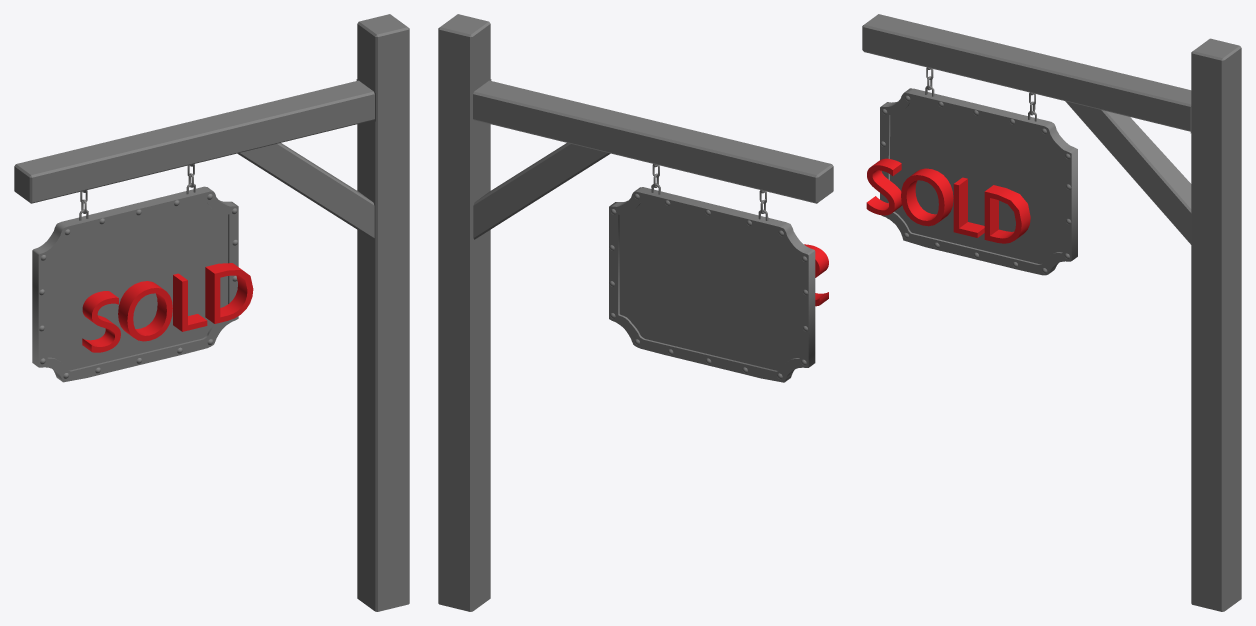
File: SoldSign.fbx
3 renders of one model, left to right at view 1: azimuth 30°, elevation 25°; view 2: azimuth 150°, elevation 25°; view 3: azimuth 330°, elevation 25°, orthographic. The views are drawn at different scales.
Parts seen in each view (by area): view 1: node_id8 (×3), node_id36; view 2: node_id8 (×3); view 3: node_id8 (×3), node_id36.
Part boxes in pixels (x1=…): node_id8 (×3): x1=14, y1=14, x2=409, y2=611; node_id36: x1=82, y1=263, x2=253, y2=352; node_id8 (×3): x1=438, y1=14, x2=833, y2=611; node_id8 (×3): x1=862, y1=14, x2=1241, y2=611; node_id36: x1=866, y1=158, x2=1030, y2=243.
Bounding box in the file's own units: 0.352 × 0.512 × 0.0746.
Materials: 5 (1 with a texture image).
